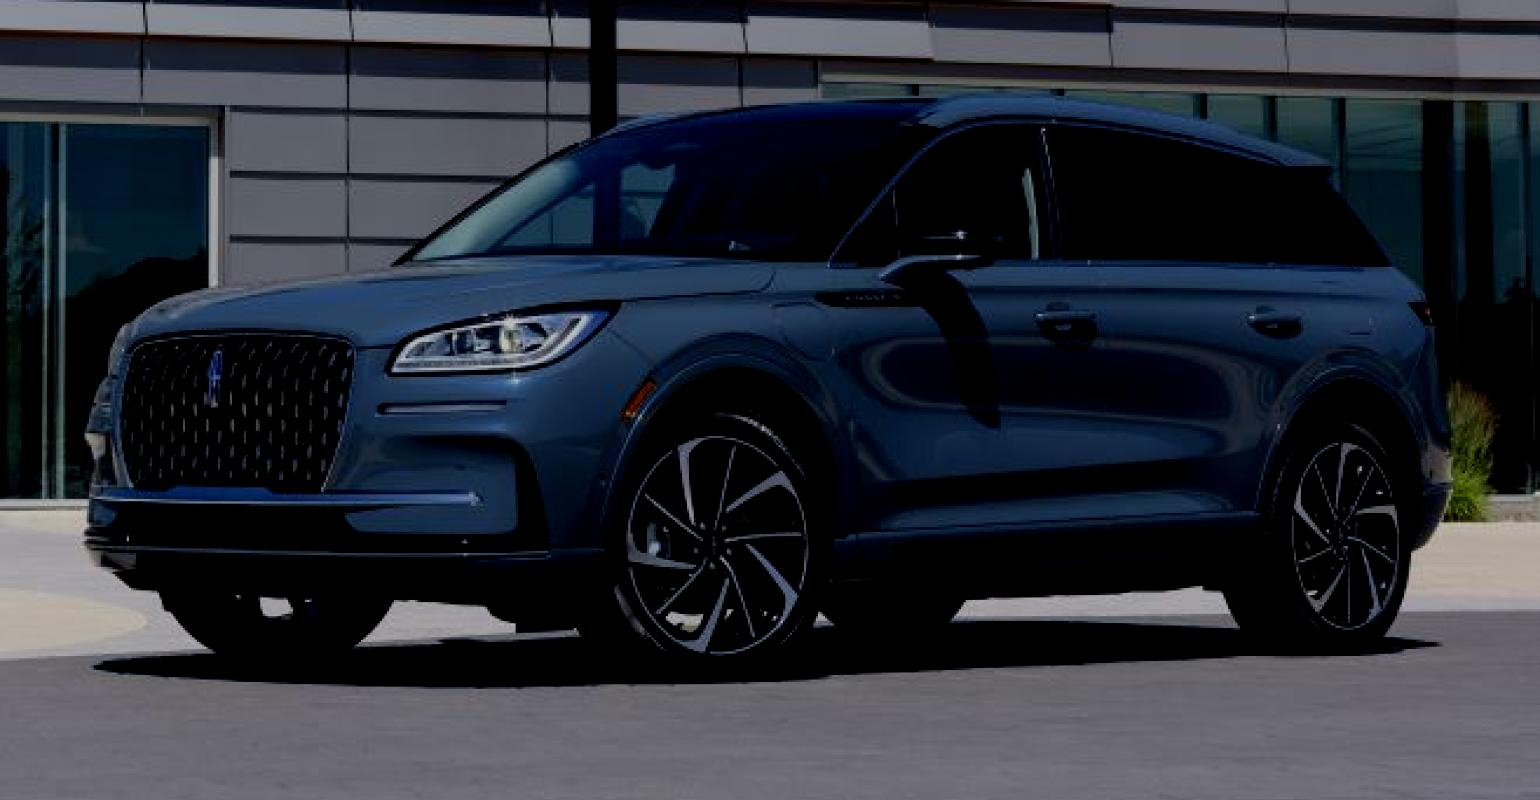lincoln: (201, 342, 232, 420)
